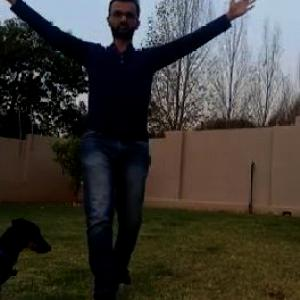takeoff: (0, 0, 265, 285)
